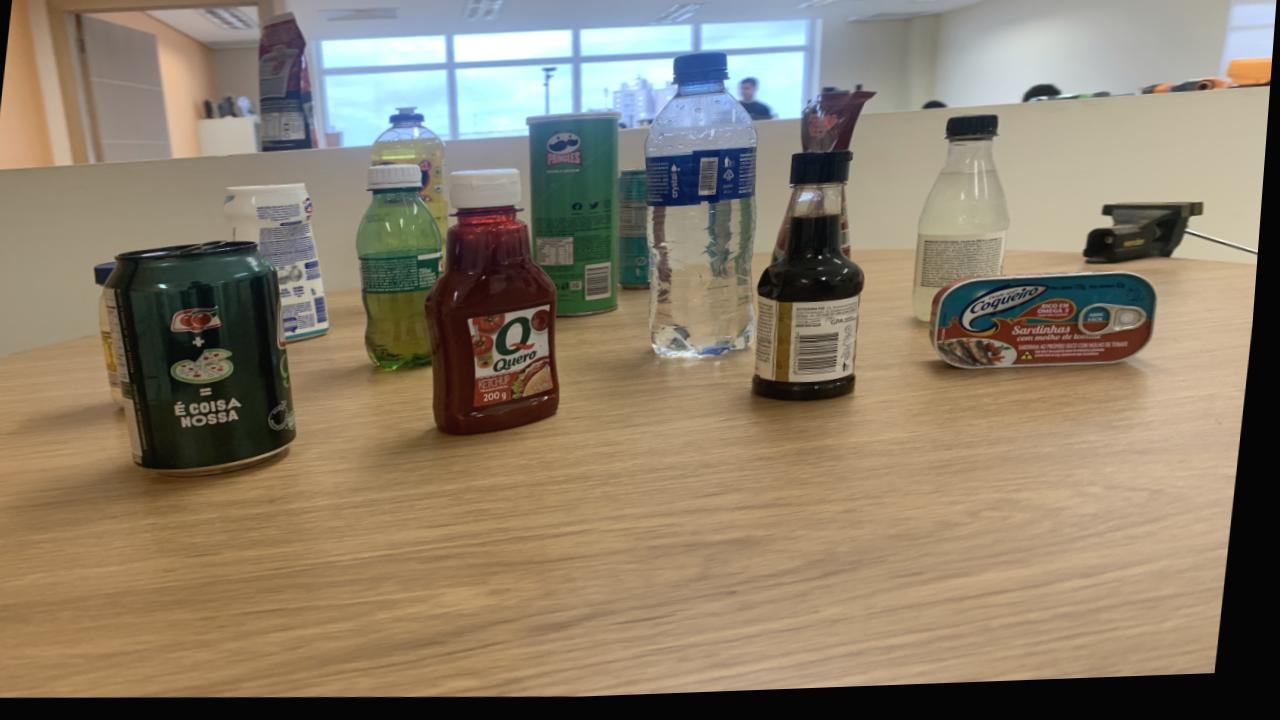Cleaner-Cleanup_Items: (227, 186, 336, 343)
Detergent-Cleanup_Items: (373, 111, 453, 241)
English_Sauce-Pantry_Items: (759, 159, 869, 406)
Guarana-Drinks: (360, 167, 447, 372)
Guarana_Can-Drinks: (109, 243, 304, 476)
Ketchup-Pantry_Items: (429, 174, 567, 438)
Mayonnaise-Pantry_Items: (102, 297, 130, 406), (98, 263, 120, 288)
Pringles-Snacks: (529, 116, 623, 321)
Soda-Drinks: (917, 122, 1014, 328)
Tea-Drinks: (620, 174, 655, 295)
Tomato_Sauce-Pantry_Items: (259, 15, 320, 154), (803, 93, 879, 159), (776, 209, 797, 269), (840, 194, 856, 264)
Tuna_Can-Pantry_Items: (936, 280, 1162, 377)
Water_Bottle-Drinks: (646, 58, 760, 363)
